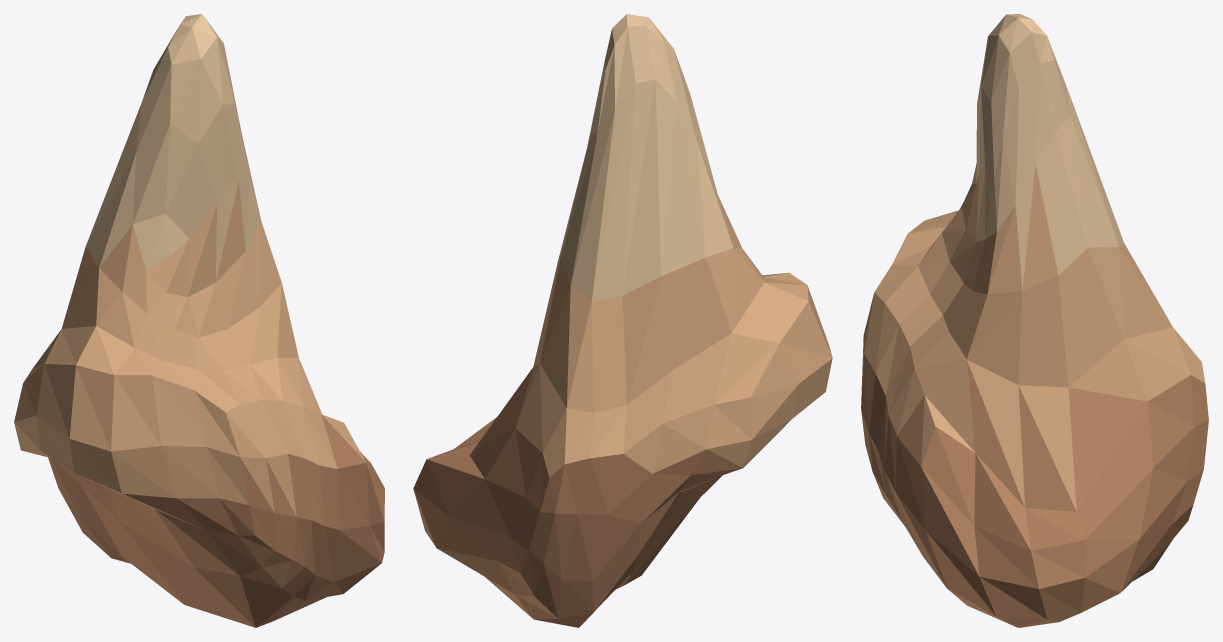
Rendered from canyon-2-3.glb.
The picture shows the model from 3 angles, left to right: view 1: azimuth 30°, elevation 25°; view 2: azimuth 150°, elevation 25°; view 3: azimuth 270°, elevation 25°; orthographic projection. The views are drawn at different scales.
Parts seen in each view (by area): view 1: canyon-2-3; view 2: canyon-2-3; view 3: canyon-2-3.
Boxes of the visible parts, x1=… form: canyon-2-3: x1=14, y1=14, x2=384, y2=627; canyon-2-3: x1=413, y1=14, x2=832, y2=627; canyon-2-3: x1=861, y1=14, x2=1208, y2=627.
Bounding box in the file's own units: 19.01 × 30 × 16.97.
